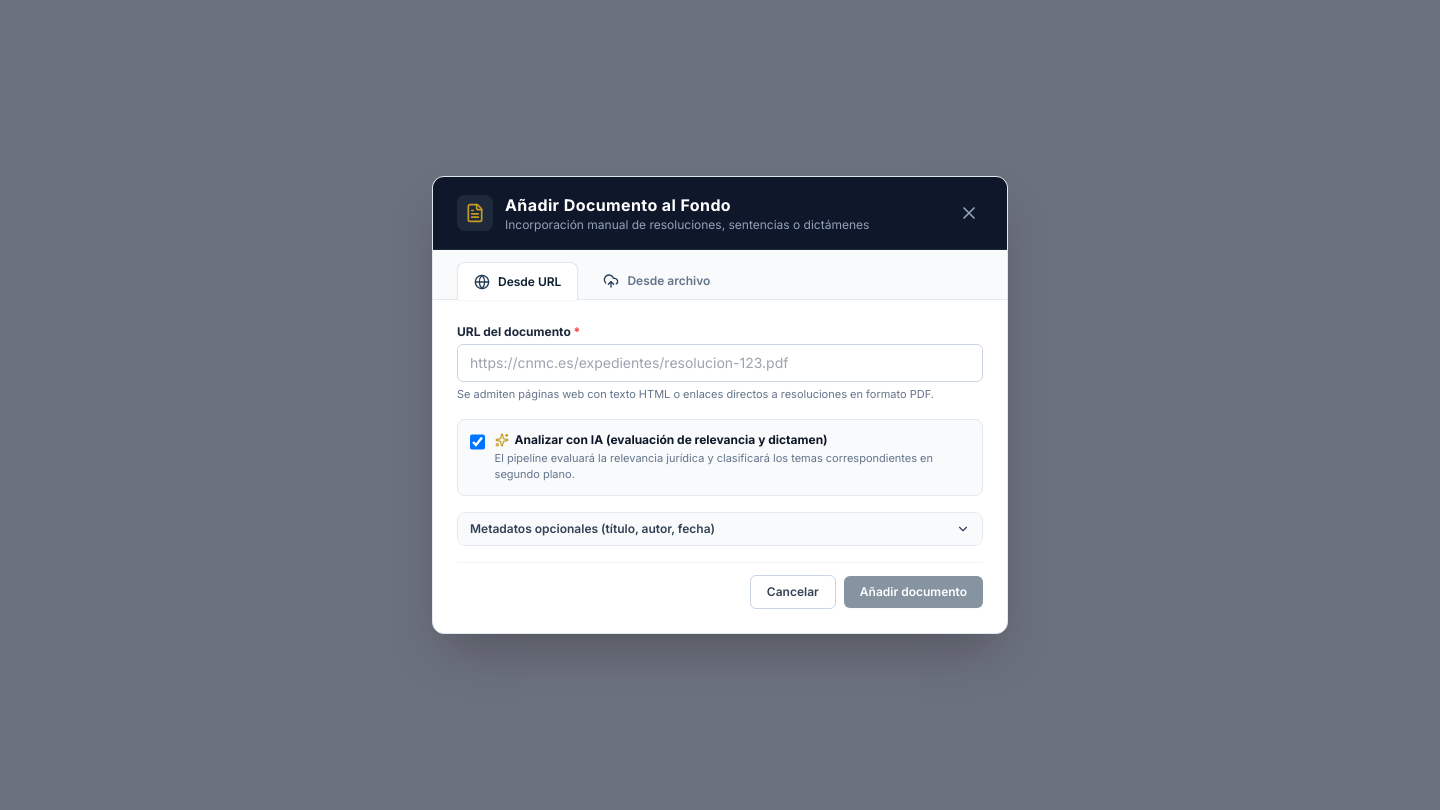
Scenario: Manual Document Ingestion (Bloque 11C Frontend) › 3. Se puede cambiar entre URL y archivo
Expected: the field labelled "URL del documento *" is shown, [457,344,983,382]
Switch to File mode
Click the button "Desde archivo" at (657, 281), box [586,262,727,299]
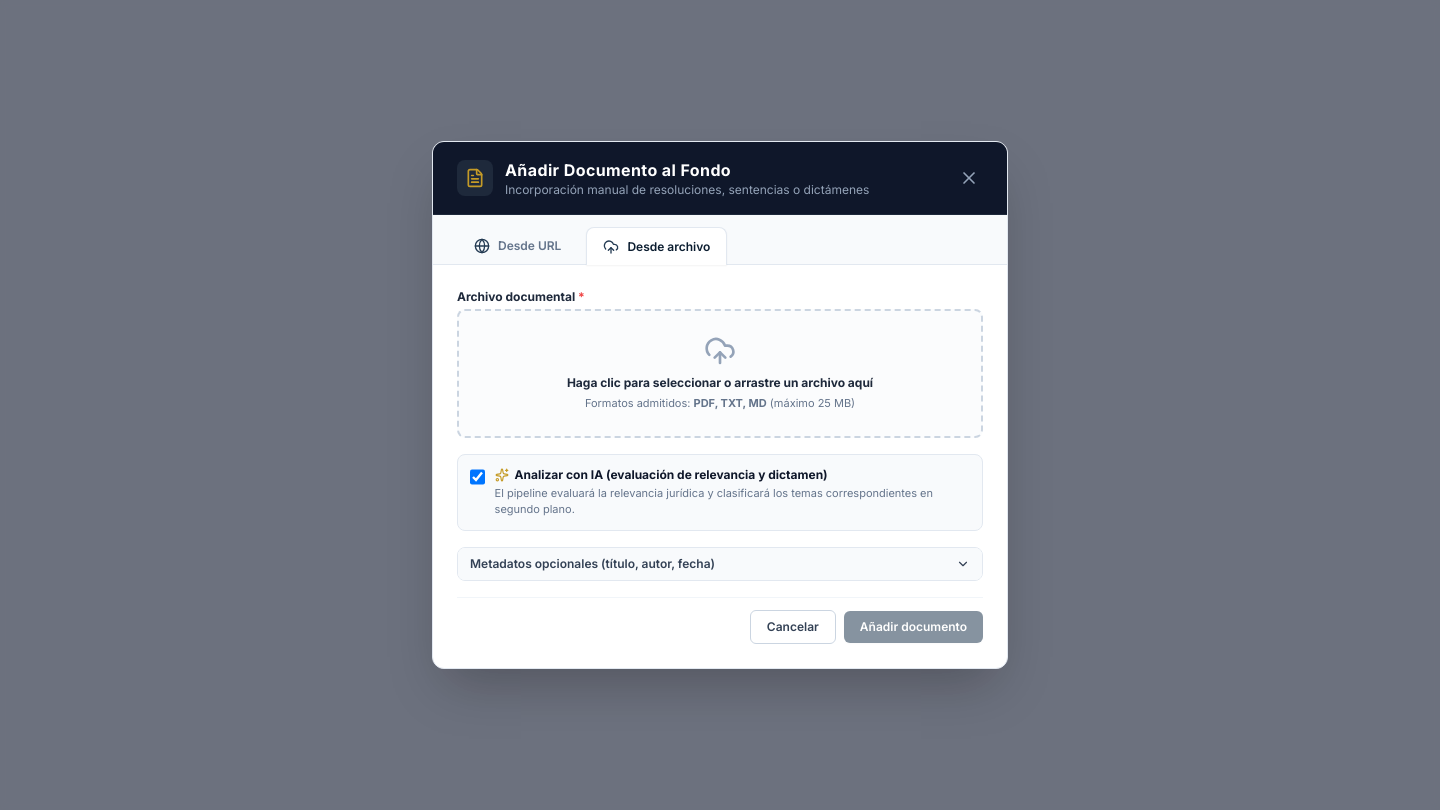
Expected: the text "Haga clic para seleccionar o arrastre un archivo aquí" is shown, [567,375,873,390]
Expected: the label labelled "URL del documento" is gone
Switch back to URL mode
Click the button "Desde URL" at (518, 246), box [457,227,578,264]
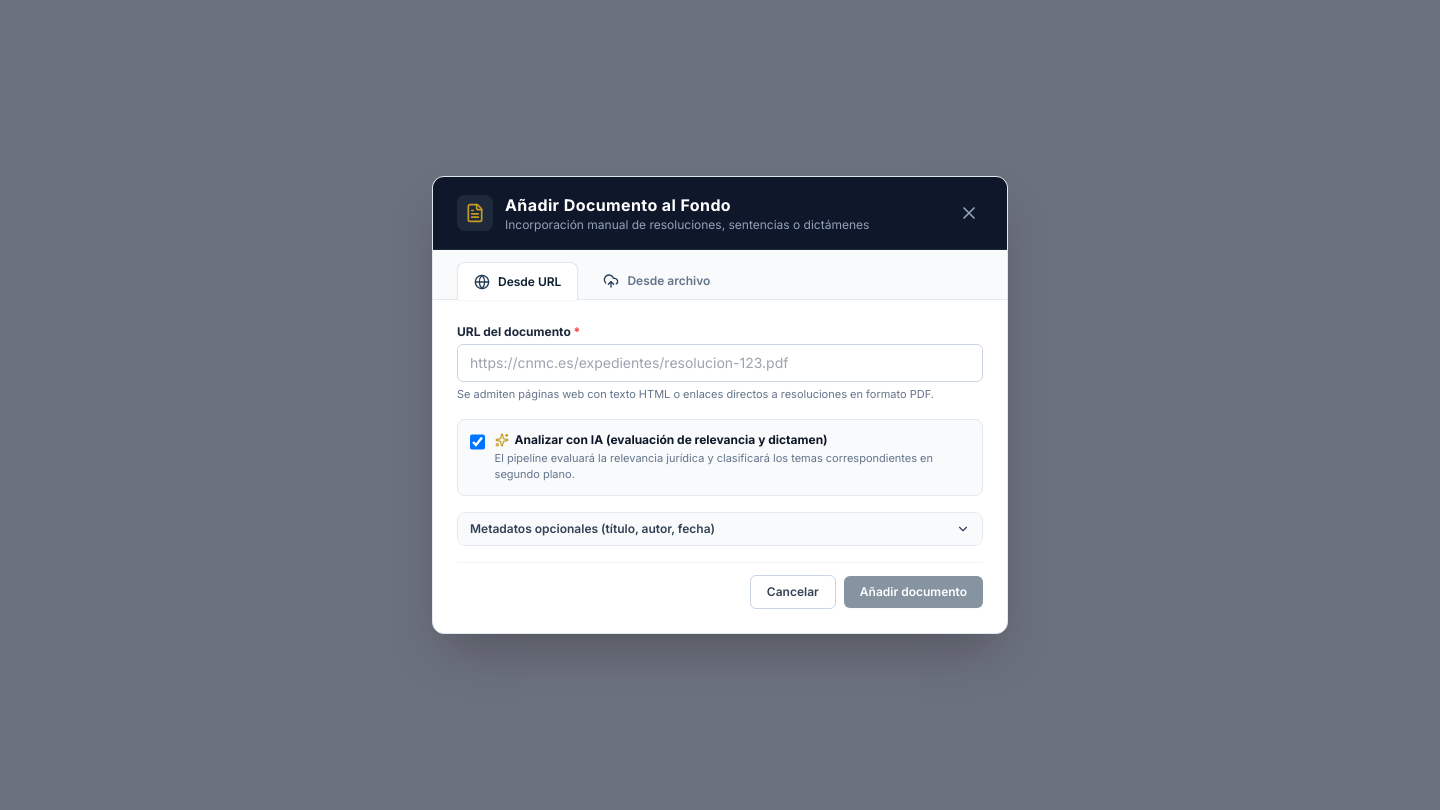
Expected: the field labelled "URL del documento *" is shown, [457,344,983,382]
